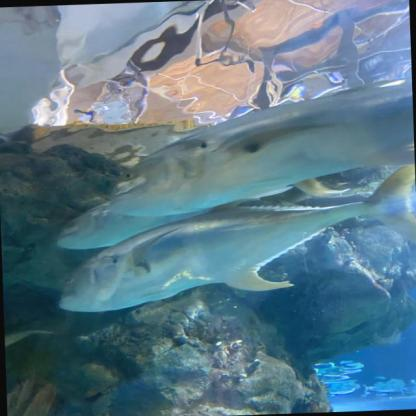fish: (54, 163, 416, 315), (105, 76, 415, 218), (53, 196, 212, 250), (4, 328, 54, 397)
